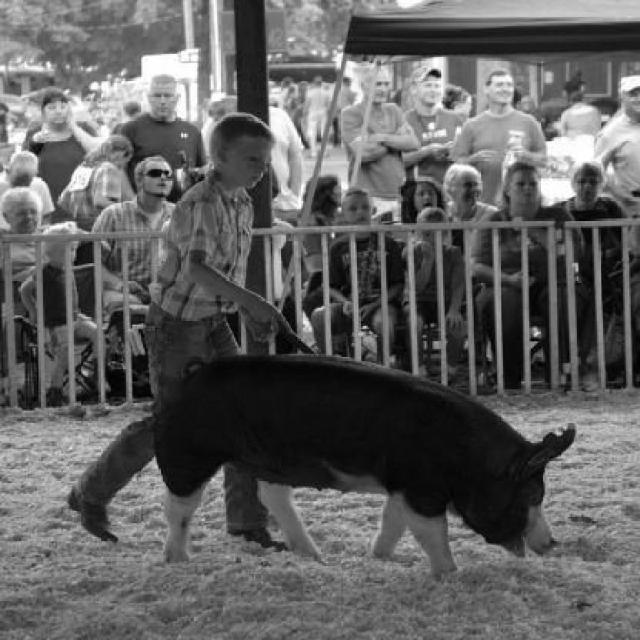Boar: (152, 352, 577, 578)
